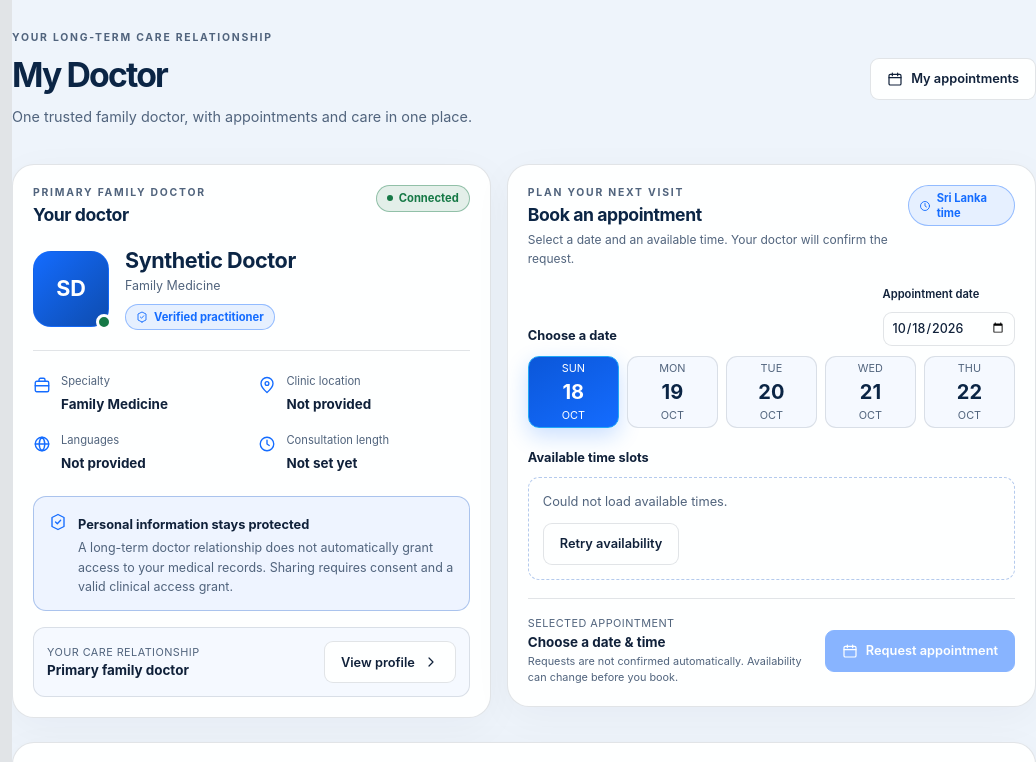
Test: MyDoctor availability › keeps a failure retryable and distinguishes unconfigured availability from no slots
The image size is (1036, 762).
Step 1. Click the button "Retry availability" → (611, 544), box [543,523,679,565]
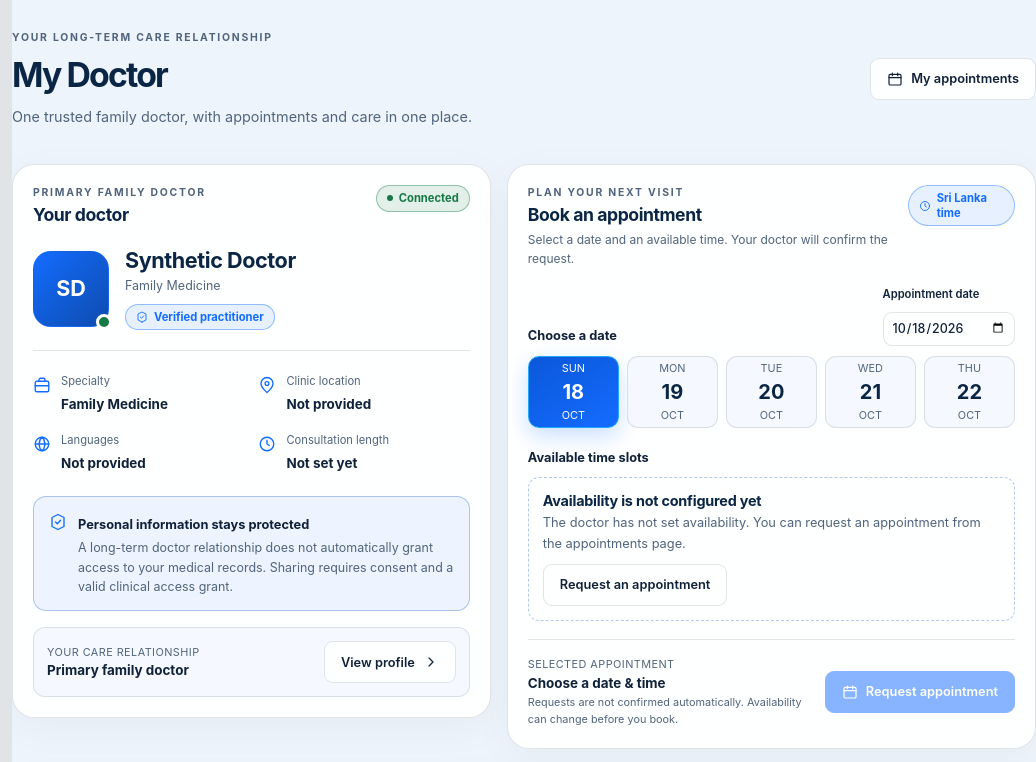
Expected: the heading "Availability is not configured yet" is shown, [543,492,761,509]
